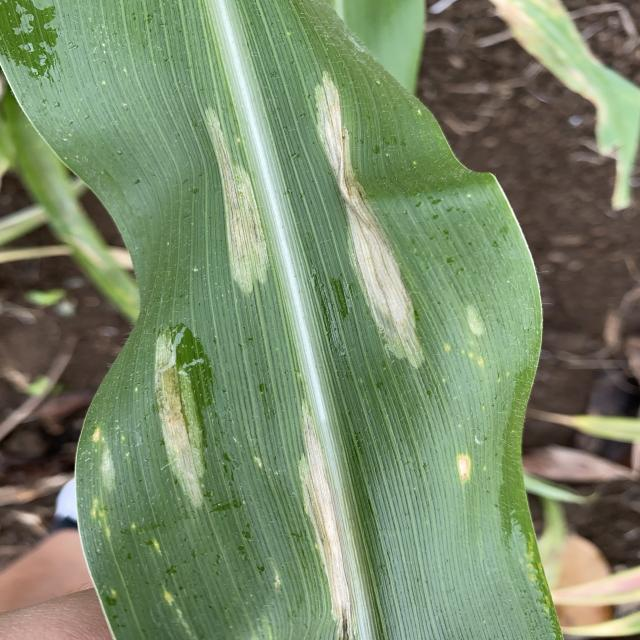Corn_Leaf_Blight: (11, 0, 556, 640)
